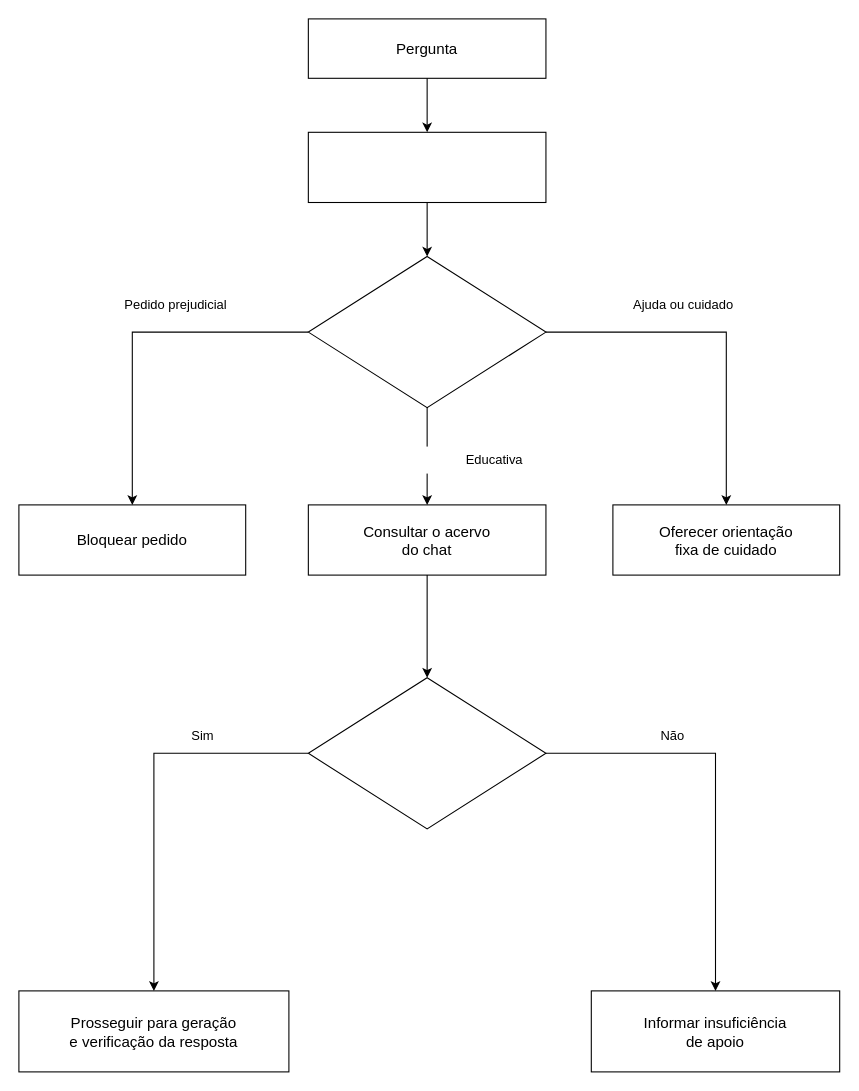
This 859x1091 diagram has some shape labels left out. The centre of each missing label's shape, as x and y in pixels:
"Analisar intenção e contexto" belongs at point 426,166.
"Há apoio para responder?" belongs at point 426,753.
"Qual tratamento?" belongs at point 426,331.
